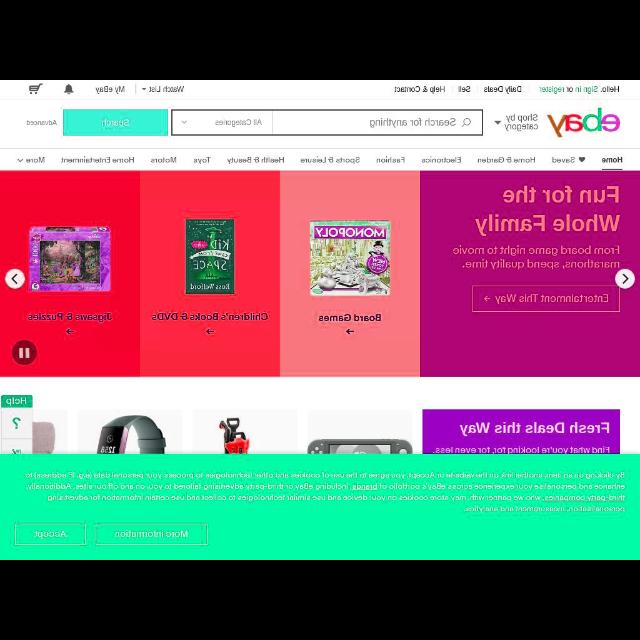button: (2, 408, 32, 438), (12, 340, 38, 364), (614, 269, 636, 289), (3, 268, 24, 288), (1, 440, 31, 454)
icon: (23, 81, 45, 97), (60, 82, 76, 98), (460, 116, 476, 130), (12, 414, 24, 431), (18, 346, 30, 362), (620, 270, 630, 286), (204, 326, 216, 339), (576, 154, 588, 164), (64, 328, 76, 338), (346, 327, 356, 338), (178, 117, 190, 125), (16, 154, 24, 166), (10, 274, 18, 284), (482, 294, 492, 302), (11, 448, 23, 454), (493, 118, 501, 126), (140, 87, 146, 93)
iframe: (1, 454, 639, 560)
image: (310, 221, 390, 295), (28, 226, 112, 292), (304, 410, 422, 454), (188, 409, 296, 453), (78, 410, 180, 452), (185, 218, 235, 294), (545, 105, 623, 141), (32, 409, 68, 453)
input: (272, 110, 482, 134)
multitab: (1, 150, 640, 170)
spinner: (172, 108, 270, 136), (492, 112, 540, 136), (136, 82, 188, 100), (14, 152, 48, 166)
text: (20, 470, 626, 514), (471, 182, 623, 238), (450, 244, 620, 270), (458, 420, 612, 438), (433, 445, 611, 455), (494, 292, 610, 306), (147, 310, 270, 322), (366, 116, 456, 128), (26, 311, 112, 323), (113, 528, 189, 540), (538, 84, 620, 94), (504, 113, 540, 135), (316, 310, 382, 322), (59, 156, 137, 166), (474, 154, 538, 166), (226, 155, 286, 165), (392, 84, 446, 94), (212, 117, 264, 127), (298, 156, 362, 164), (420, 154, 462, 166), (146, 84, 186, 96), (374, 153, 408, 167), (92, 84, 126, 96), (482, 85, 522, 93), (34, 528, 66, 538), (24, 119, 58, 127), (100, 119, 130, 128), (550, 156, 574, 167), (25, 154, 47, 166), (5, 397, 28, 408), (600, 155, 624, 165), (148, 156, 176, 164), (190, 154, 212, 164), (455, 85, 471, 93)
textbutton: (472, 286, 618, 310), (61, 108, 169, 138), (94, 522, 208, 546), (14, 524, 86, 544)
toolbar: (1, 81, 640, 149)
